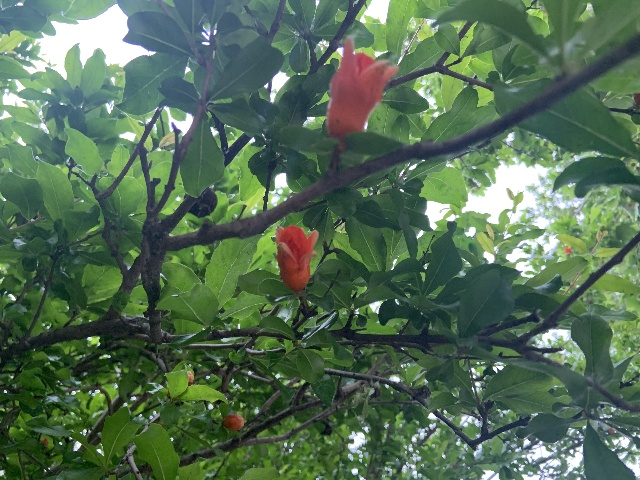bud: (222, 413, 244, 430)
flower: (326, 35, 399, 152), (274, 224, 320, 293)
